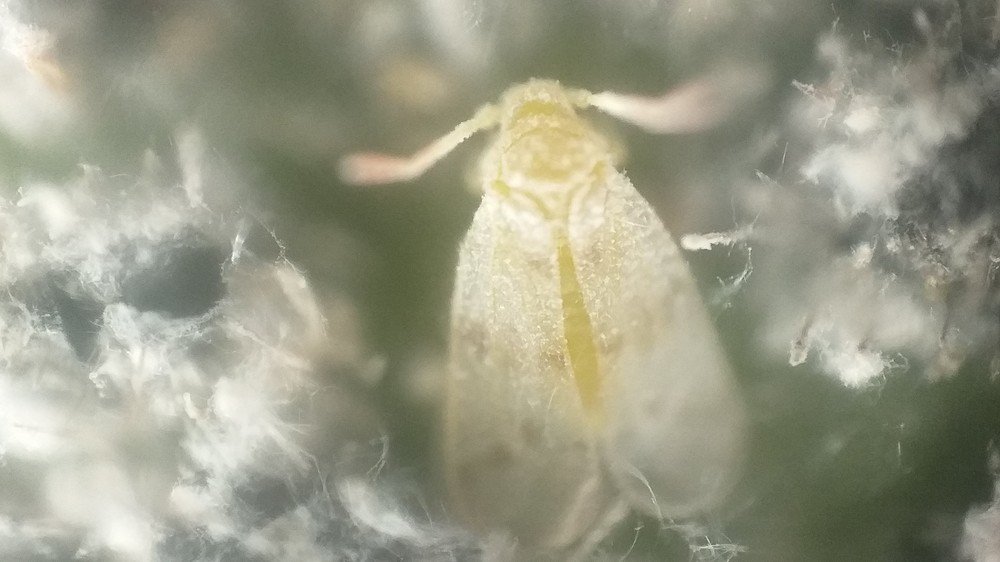Mosca Blanca: (326, 60, 795, 546)
